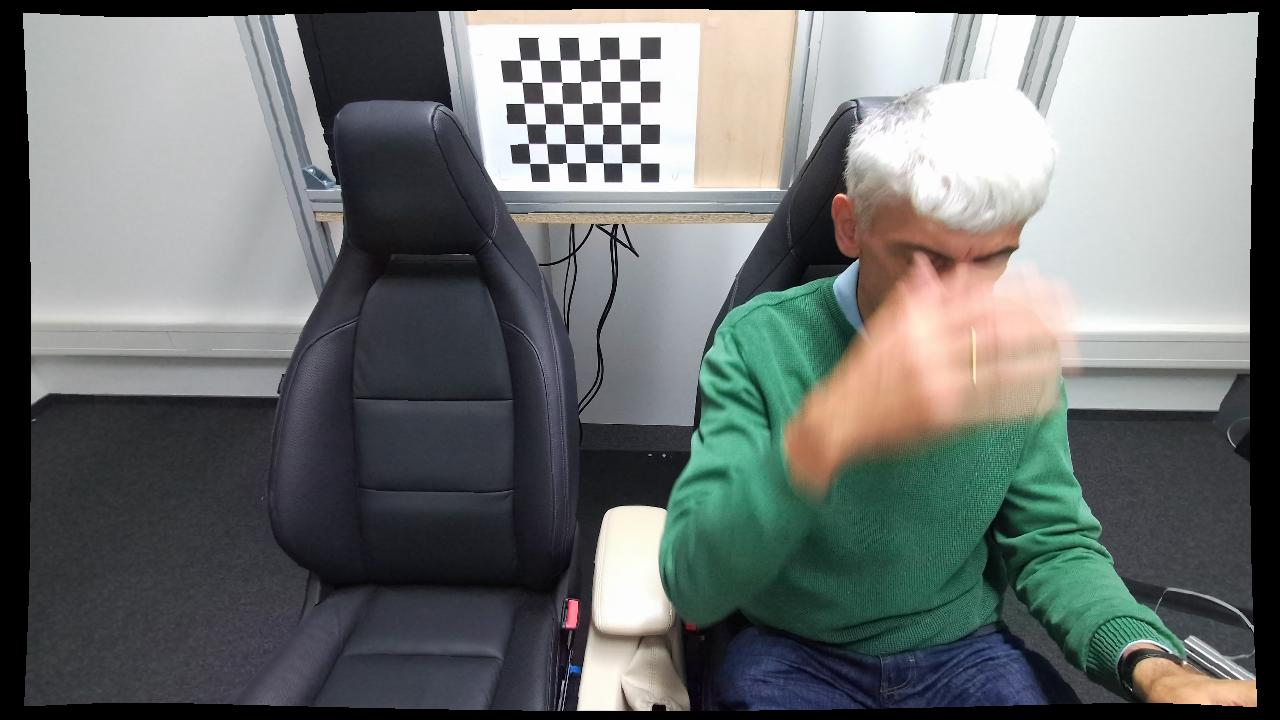Distracted: (658, 77, 1183, 714)
